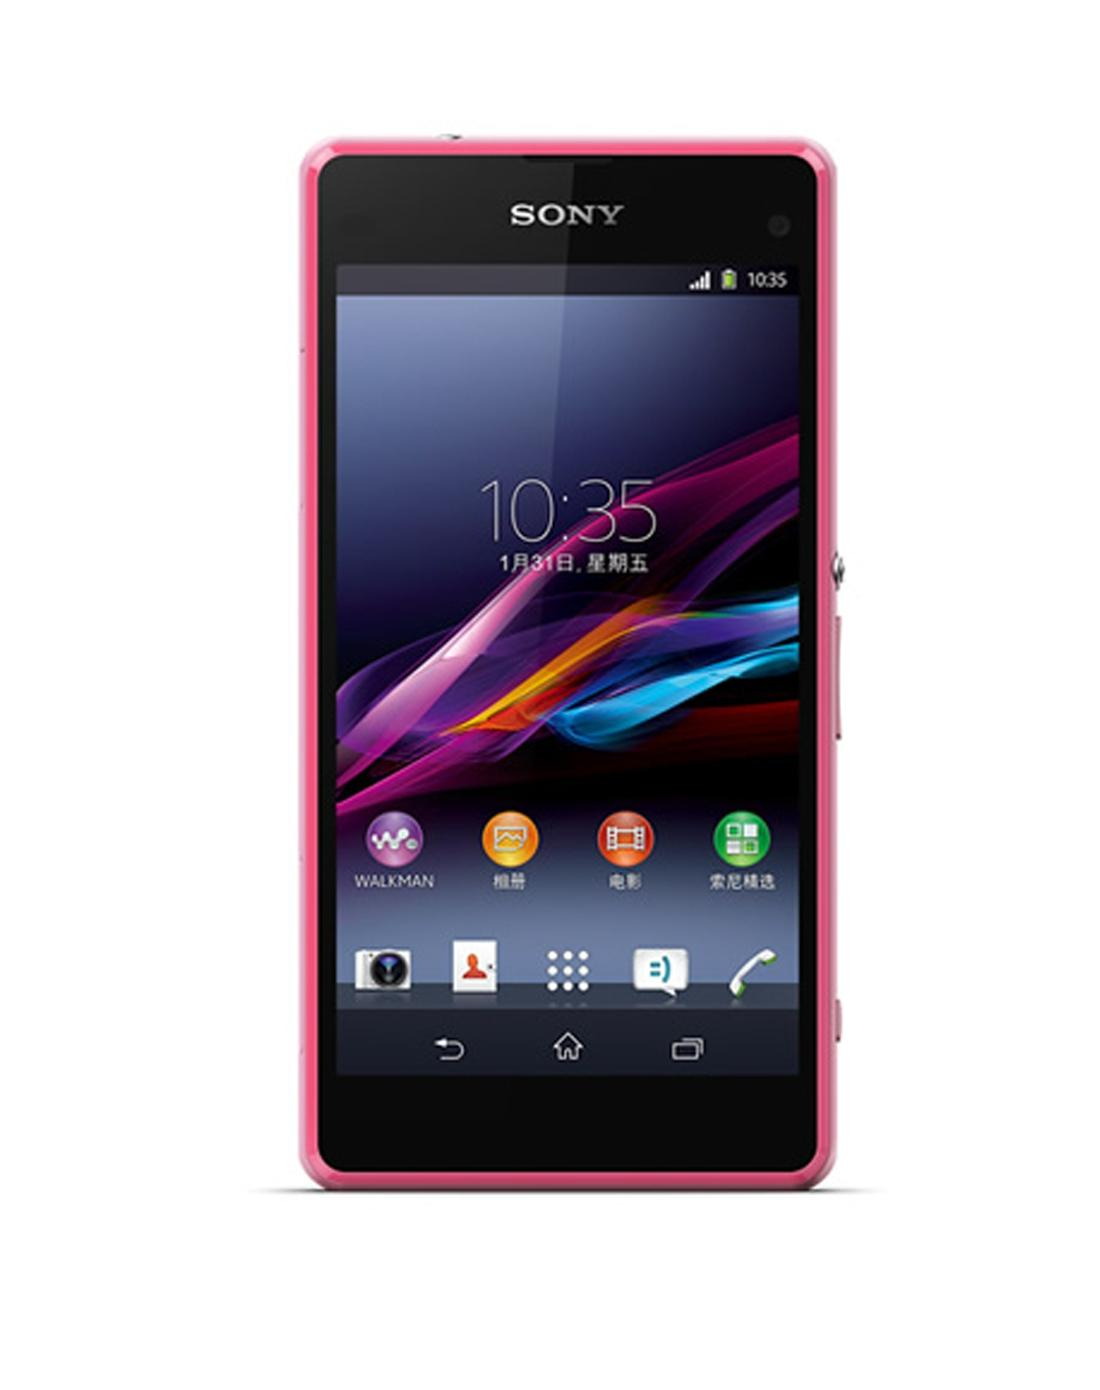phone: (302, 143, 850, 1193)
